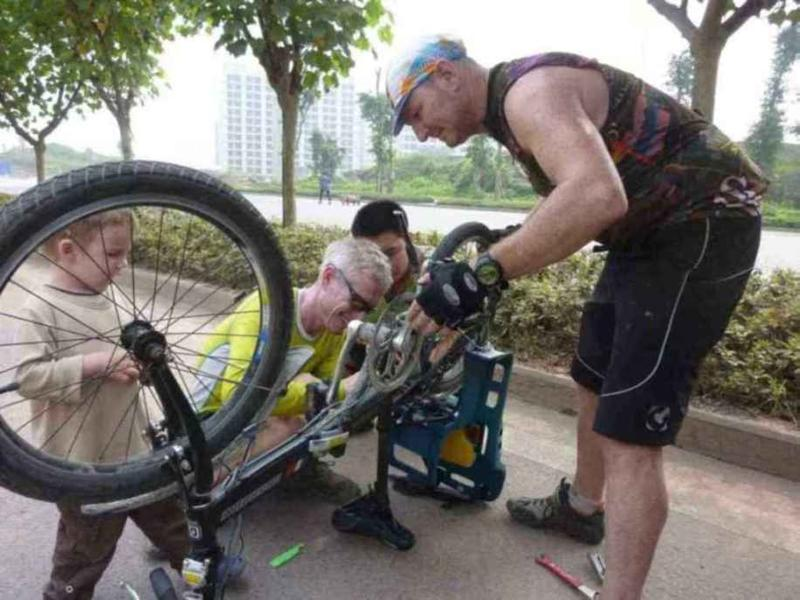person: (384, 30, 769, 600)
